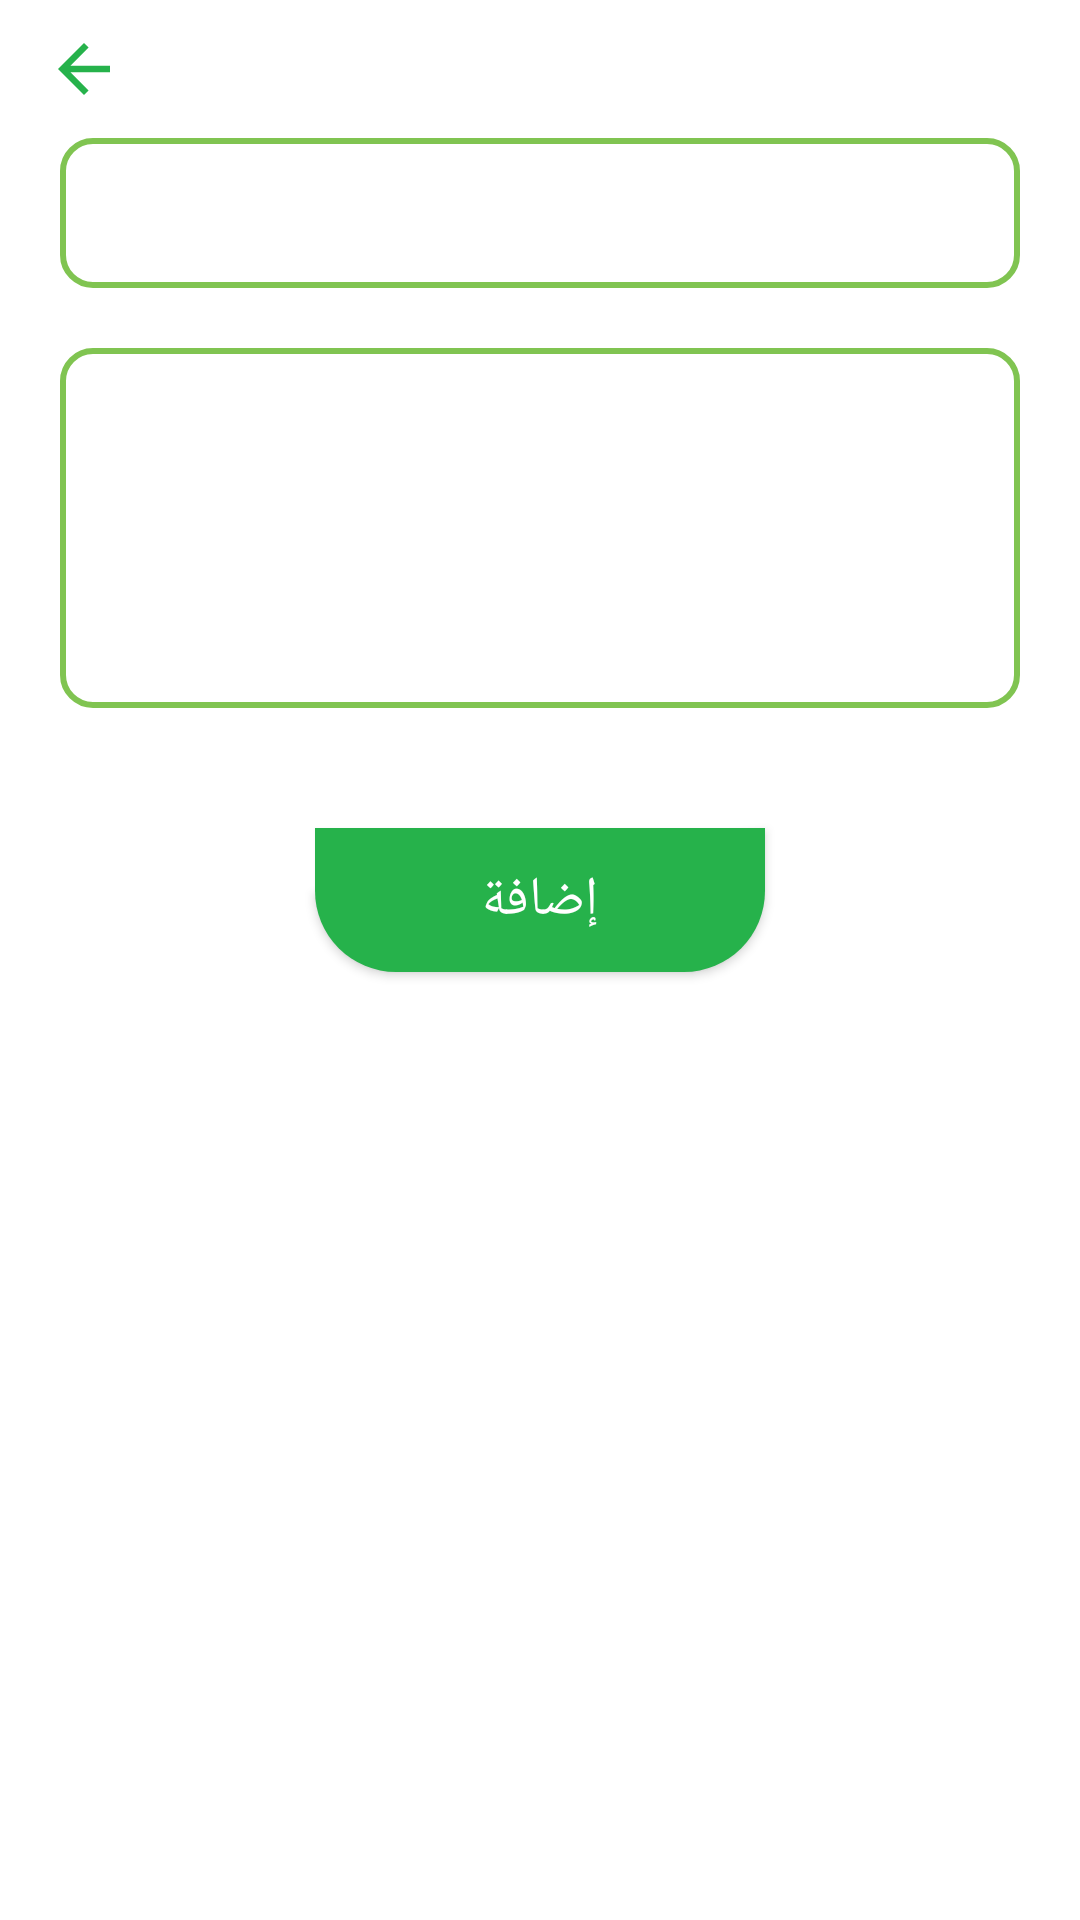

Where to tap for icons on this 1080 × 1920 app screen, as [x,y]:
back: [84,69]
